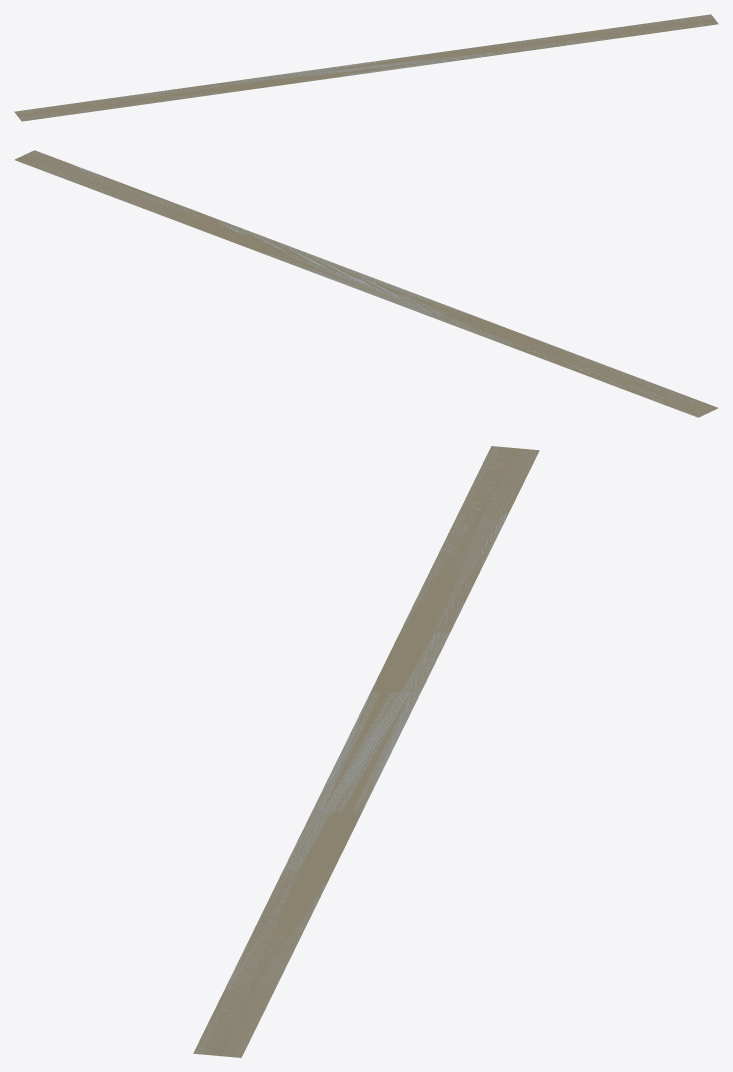
The model's file is 大本钟63.dae.
3 renders of one model, top to bottom at view 1: azimuth 30°, elevation 25°; view 2: azimuth 150°, elevation 25°; view 3: azimuth 270°, elevation 25°, orthographic. The views are drawn at different scales.
Visible parts, largest first — view 1: SketchUp; view 2: SketchUp; view 3: SketchUp.
Boxes of the visible parts, <box> form: SketchUp: <box>14,14,718,121</box>; SketchUp: <box>14,150,718,417</box>; SketchUp: <box>193,446,539,1057</box>.
Size of the model in its own units: 346 by 82.81 by 0.
